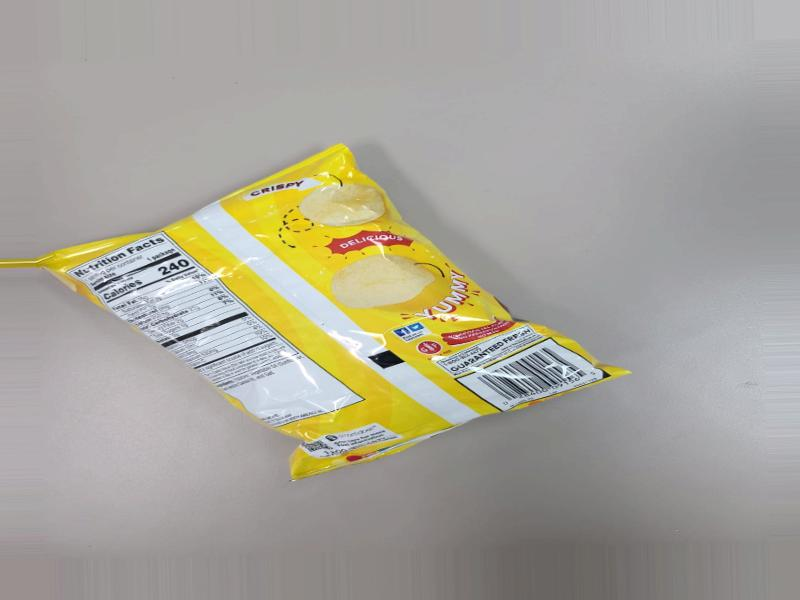lays: (60, 159, 590, 513)
